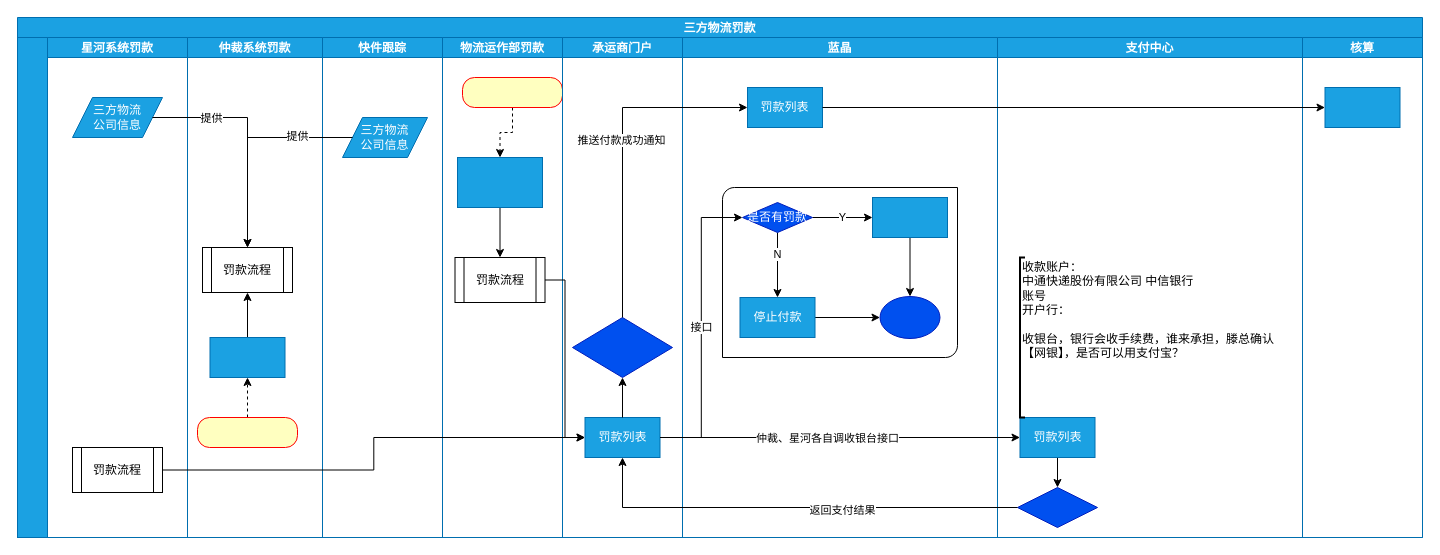
The diagram is 1440 pixels wide and 555 high, and some of its shapes have lost their labels. The shapes that lost their labels are listed below. From the top down, each one's centre as x and y in pixels, then its label:
the point at 512,92: 谁来录入？ 暂定物流运作部
the point at 1362,107: 生成凭证
the point at 499,182: 罚款信息录入
the point at 910,217: 支付
the point at 32,287: 阶 段
the point at 909,317: 结束
the point at 247,357: 整车罚款录入
the point at 622,347: 是否收到 成功付款通知
the point at 247,432: 谁来录入？
the point at 1057,507: 是否成功
